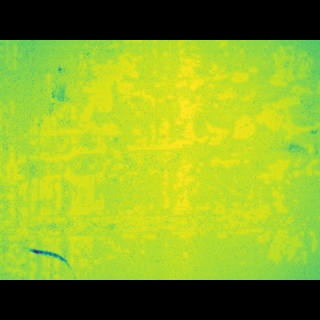Loch: (0, 71, 320, 189), (0, 193, 301, 216), (86, 217, 316, 247)
